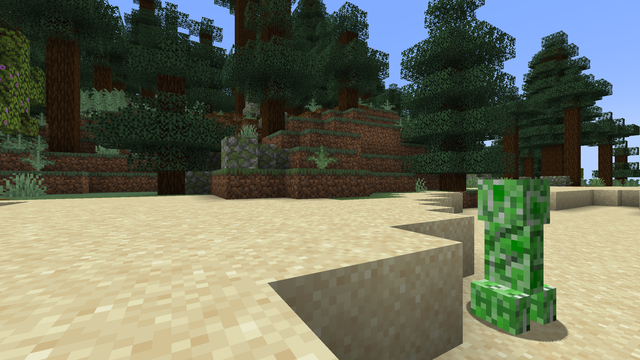creepers: (472, 172, 555, 337)
